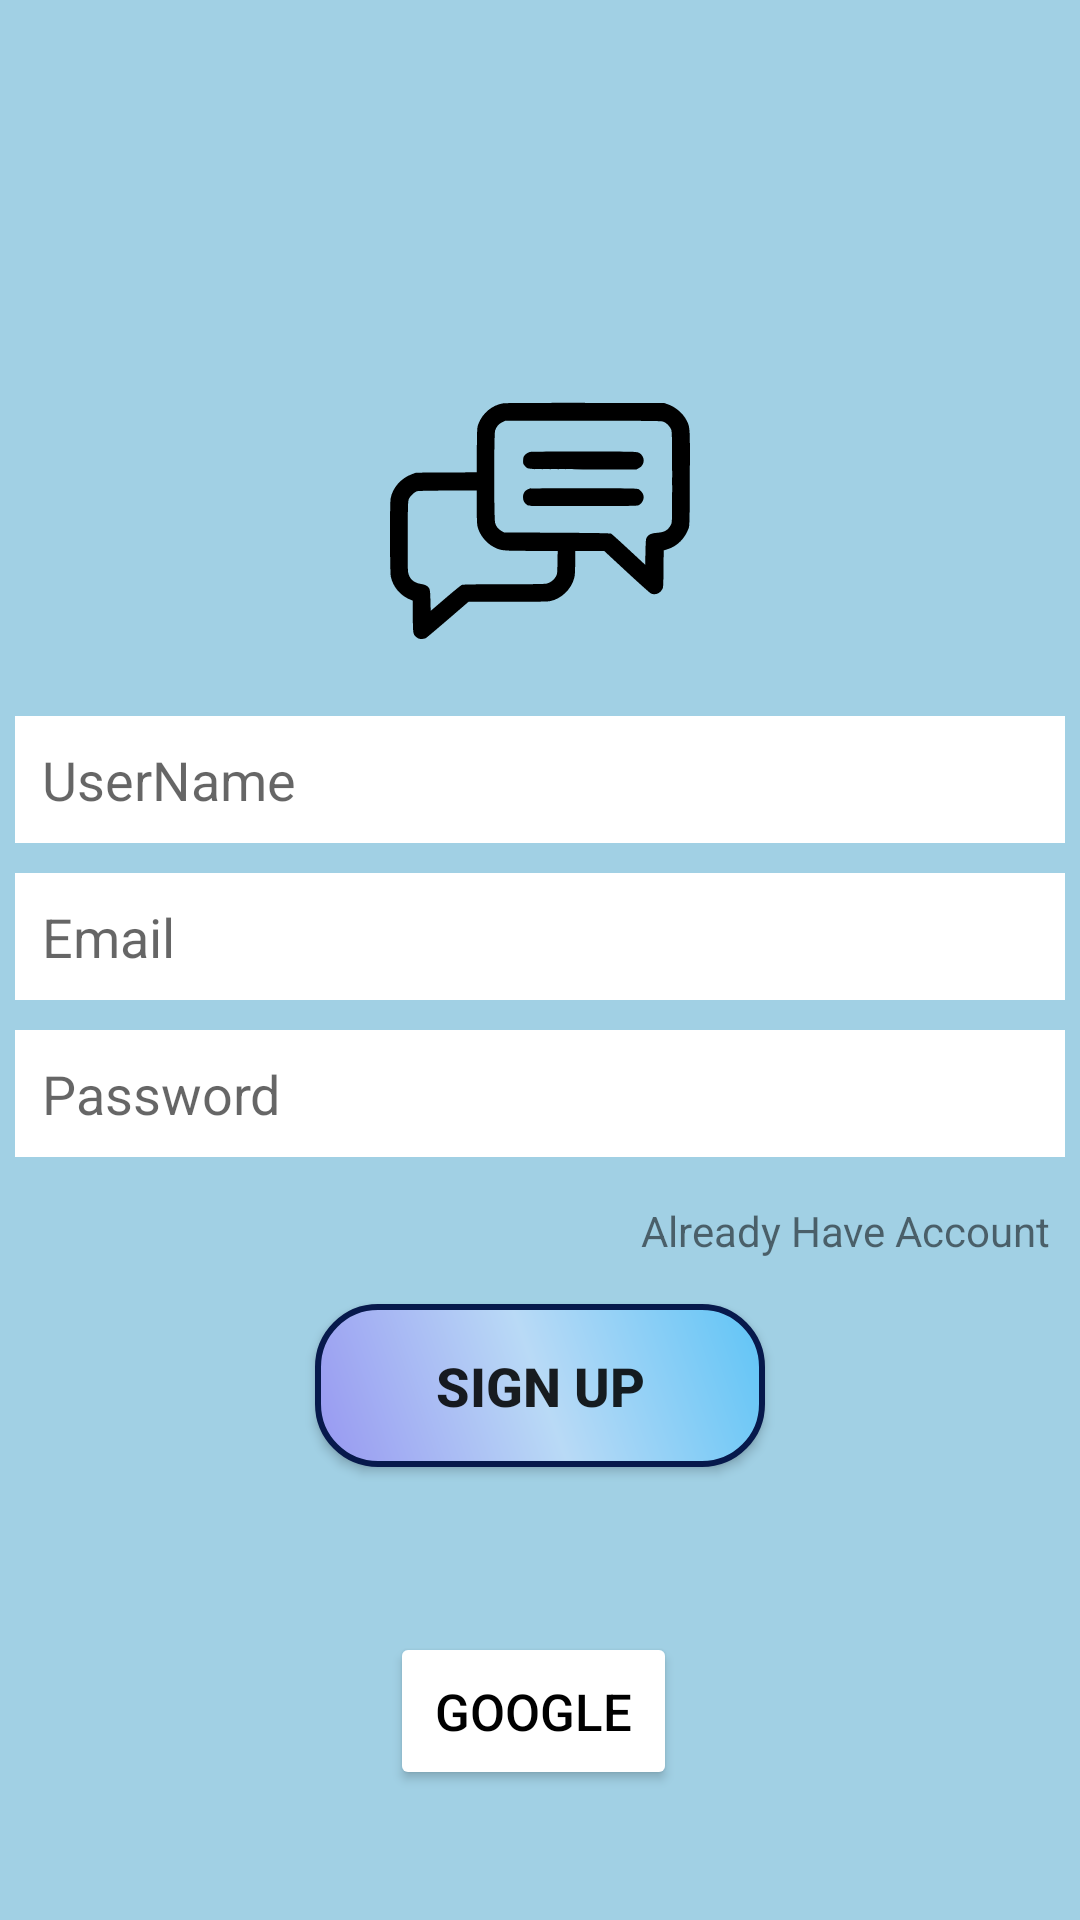

Named icons in this screenshot (1080*1920) and their centers, (x,y):
chat: (540,520)
